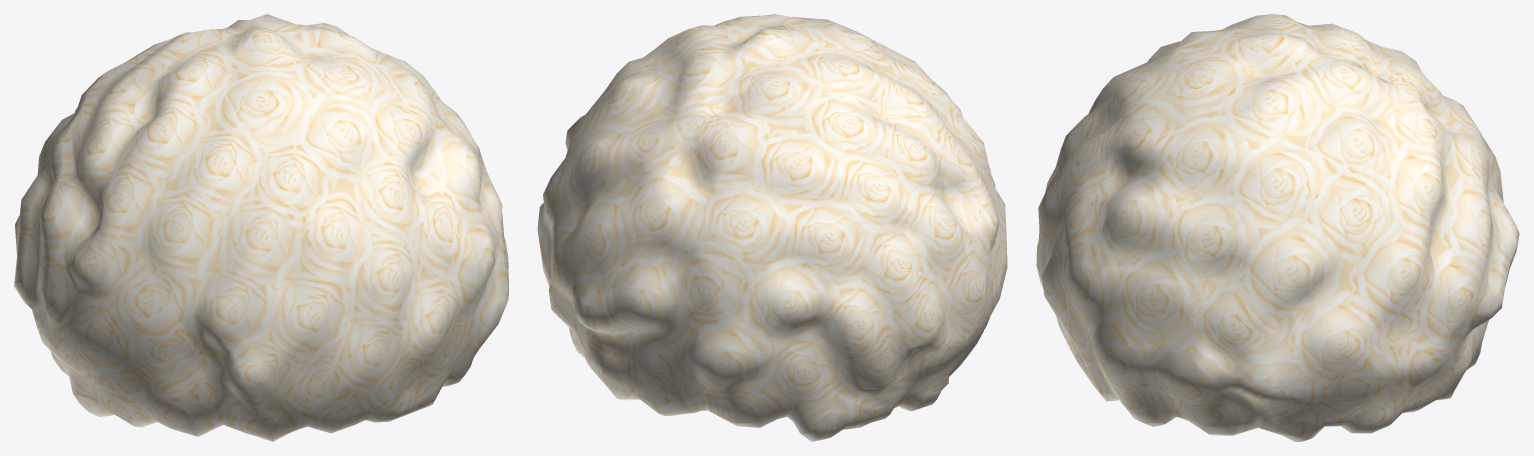
File: DecorFlowerRoses01_1.FBX
3 renders of one model, left to right at view 1: azimuth 30°, elevation 25°; view 2: azimuth 150°, elevation 25°; view 3: azimuth 270°, elevation 25°, orthographic. The views are drawn at different scales.
Visible parts, largest first — view 1: DecorFlowerRoses01_1; view 2: DecorFlowerRoses01_1; view 3: DecorFlowerRoses01_1.
Boxes of the visible parts, x1,y1,x2,y2 form: DecorFlowerRoses01_1: (14,14,508,441); DecorFlowerRoses01_1: (537,14,1007,441); DecorFlowerRoses01_1: (1036,14,1519,441).
Size of what is drawn, in the model's own units: 0.4893 by 0.3756 by 0.4783.
